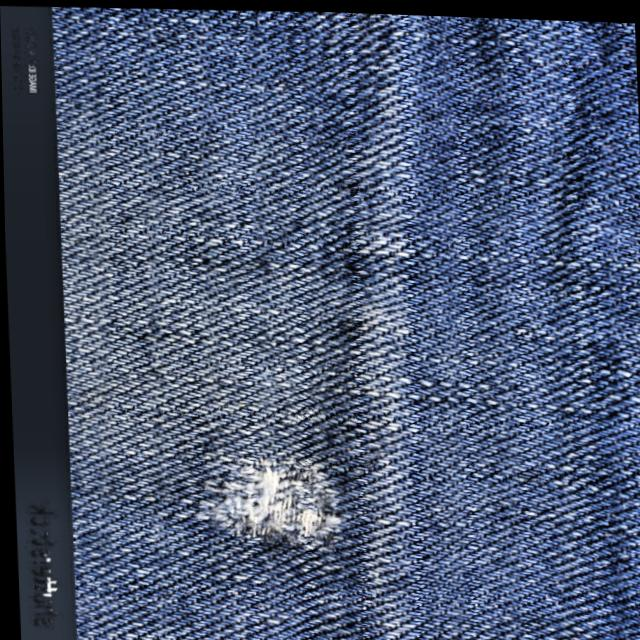Hole: (169, 445, 359, 563)
